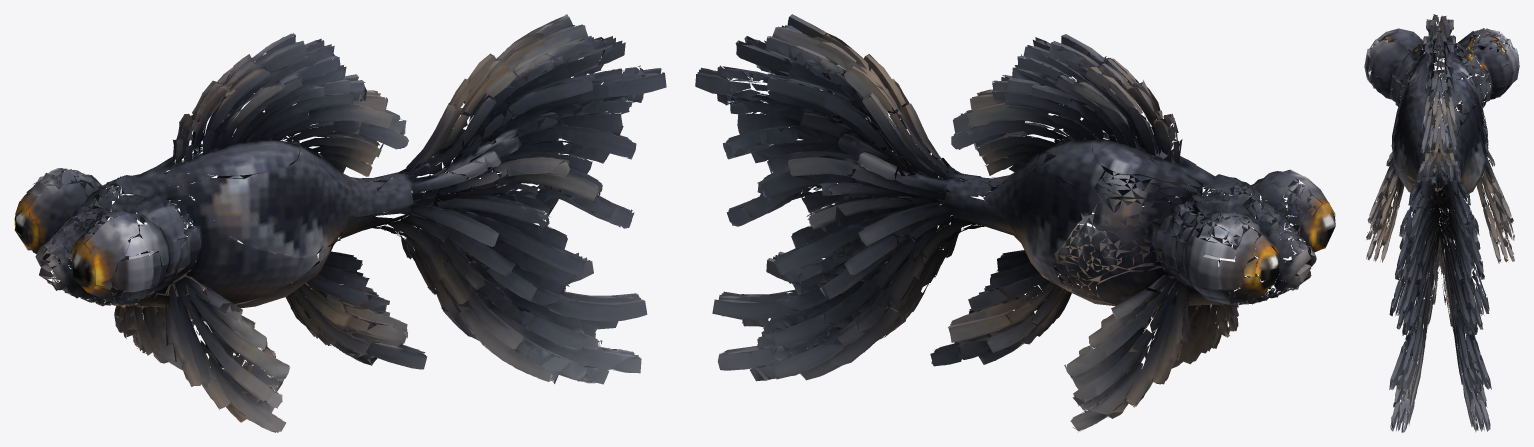
The model's file is fish_c.glb.
3 renders of one model, left to right at view 1: azimuth 30°, elevation 25°; view 2: azimuth 150°, elevation 25°; view 3: azimuth 270°, elevation 25°, orthographic. The views are drawn at different scales.
Visible parts, largest first — view 1: node_0; view 2: node_0; view 3: node_0.
Boxes of the visible parts, x1,y1,x2,y2 form: node_0: [14, 14, 666, 432]; node_0: [695, 14, 1335, 431]; node_0: [1364, 14, 1519, 432].
Size of the model in its own units: 1.1 by 0.6961 by 0.327.
1 material, 1 textured.
